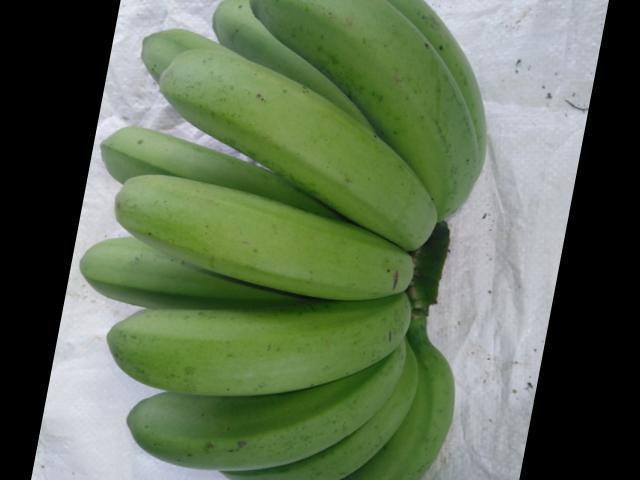unripe: (234, 0, 482, 211), (170, 39, 423, 233), (104, 158, 422, 302), (60, 285, 423, 391)
